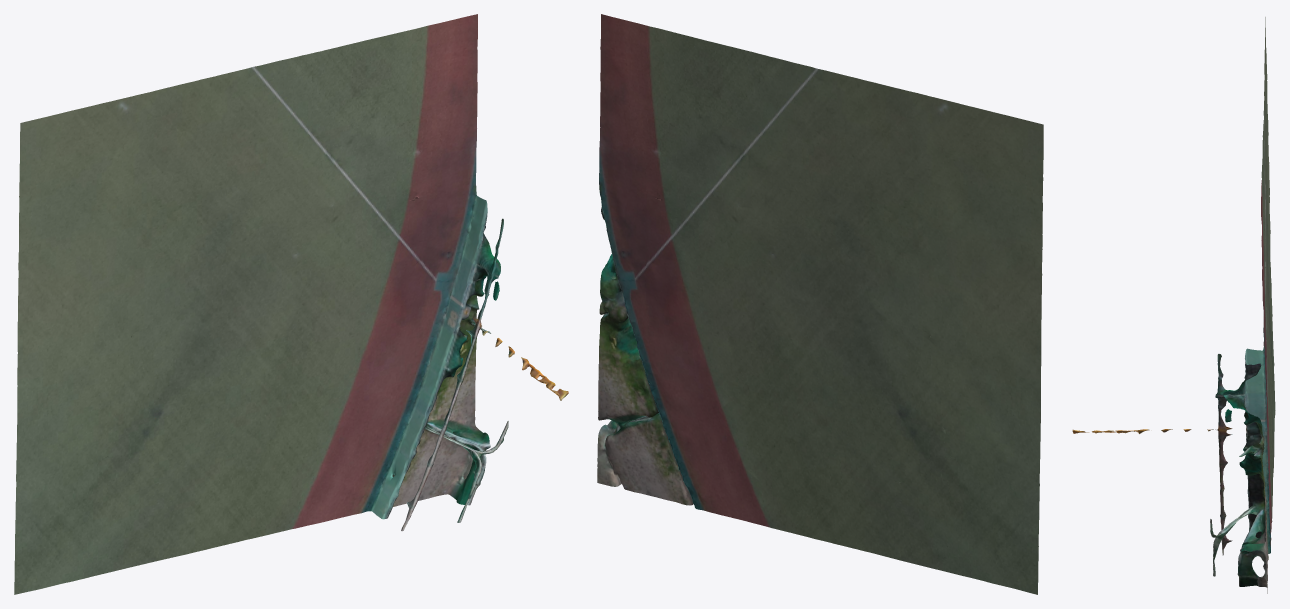
The model's file is Tile_+018_+006.fbx.
The picture shows the model from 3 angles, left to right: view 1: azimuth 30°, elevation 25°; view 2: azimuth 150°, elevation 25°; view 3: azimuth 270°, elevation 25°; orthographic projection. The views are drawn at different scales.
Visible parts, largest first — view 1: DefaultName; view 2: DefaultName; view 3: DefaultName.
Part boxes in pixels (<box>): DefaultName: <box>14,14,568,594</box>; DefaultName: <box>597,14,1043,594</box>; DefaultName: <box>1072,17,1275,593</box>.
Bounding box in the file's own units: 22.54 × 22.54 × 10.47.
